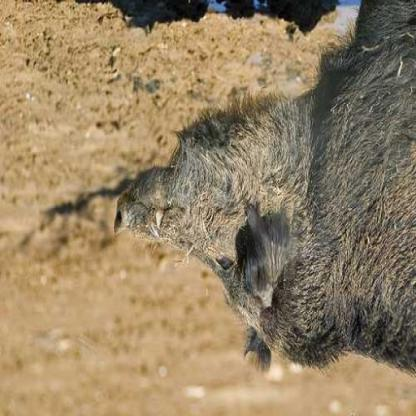boar: (107, 27, 415, 388)
